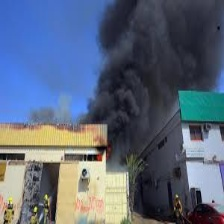smoke: (104, 2, 211, 127)
